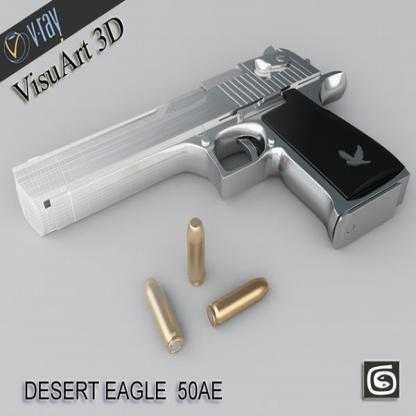Pistol: (11, 44, 410, 248)
